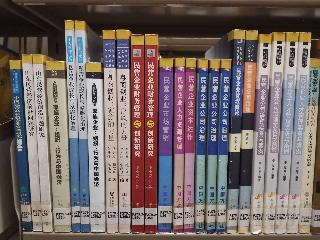book-spine: (273, 32, 300, 234), (285, 32, 312, 234), (235, 28, 258, 234), (263, 31, 286, 233), (45, 60, 72, 232), (250, 34, 272, 234), (9, 59, 33, 232), (84, 61, 107, 233), (226, 28, 245, 234), (299, 58, 320, 234), (65, 20, 82, 232), (22, 53, 42, 233), (33, 54, 53, 232), (102, 30, 119, 233), (143, 34, 160, 233), (75, 21, 90, 234), (157, 57, 174, 235), (116, 31, 131, 232), (205, 58, 221, 234), (216, 59, 232, 235), (182, 59, 197, 234), (130, 34, 143, 234), (173, 57, 186, 234), (195, 59, 208, 233)
